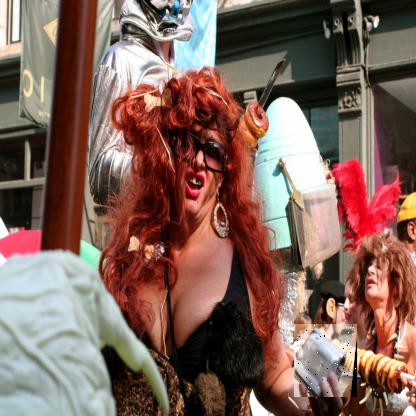Camera: (295, 325, 359, 399)
